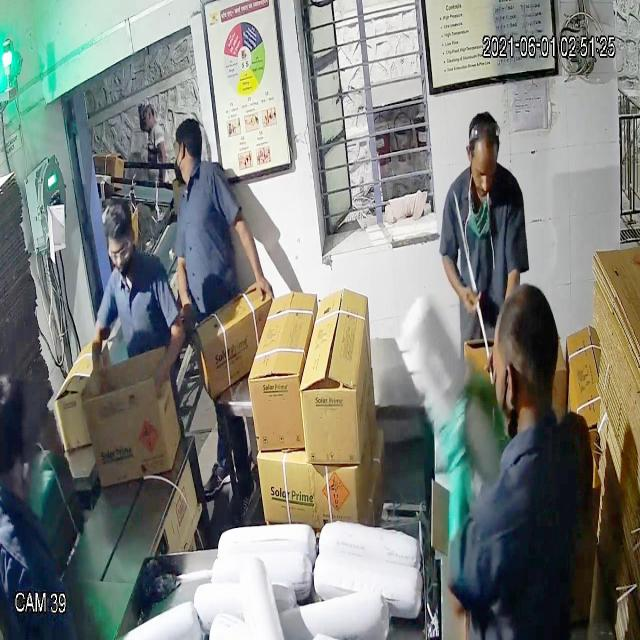glasses: (103, 234, 137, 274)
no-glass: (461, 155, 506, 190)
